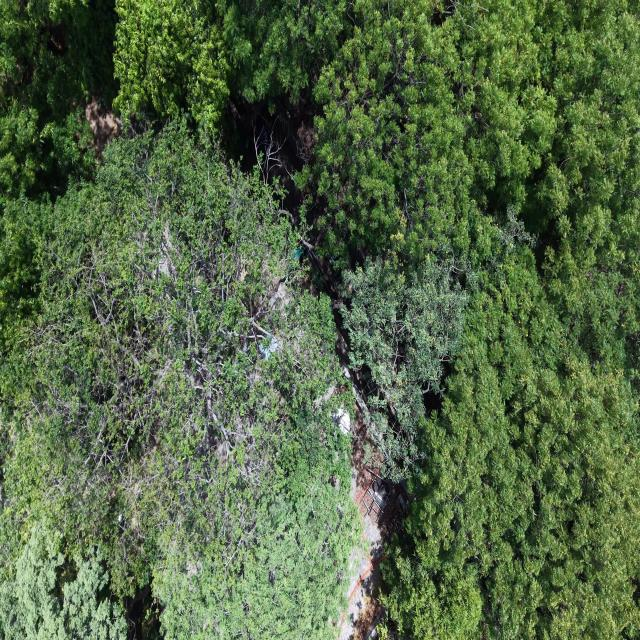DRY_AREA: (339, 487, 401, 639)
VEGETATION_TREE: (0, 0, 639, 639), (0, 124, 358, 638), (383, 248, 639, 638), (342, 258, 465, 480), (0, 0, 117, 202), (0, 525, 126, 639)
